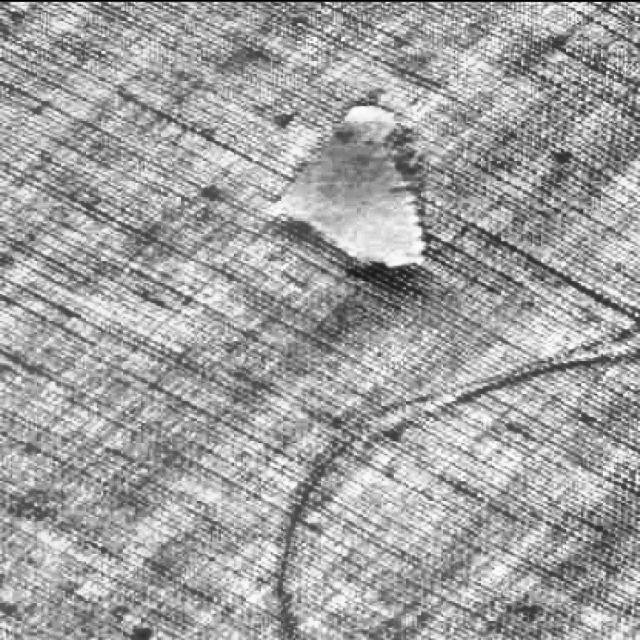objects: (252, 92, 452, 290)
thread_error: (264, 332, 640, 639)
